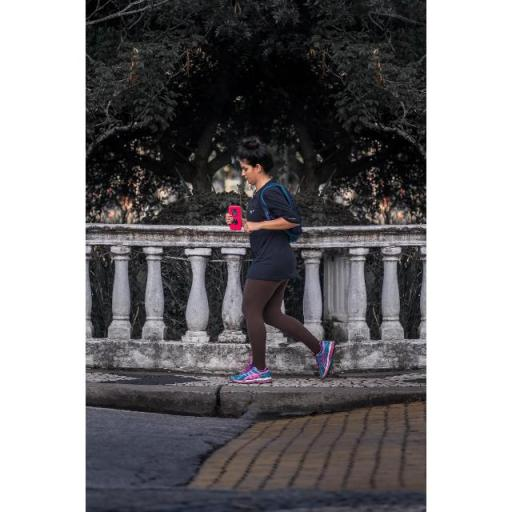Running: (202, 127, 344, 393)
